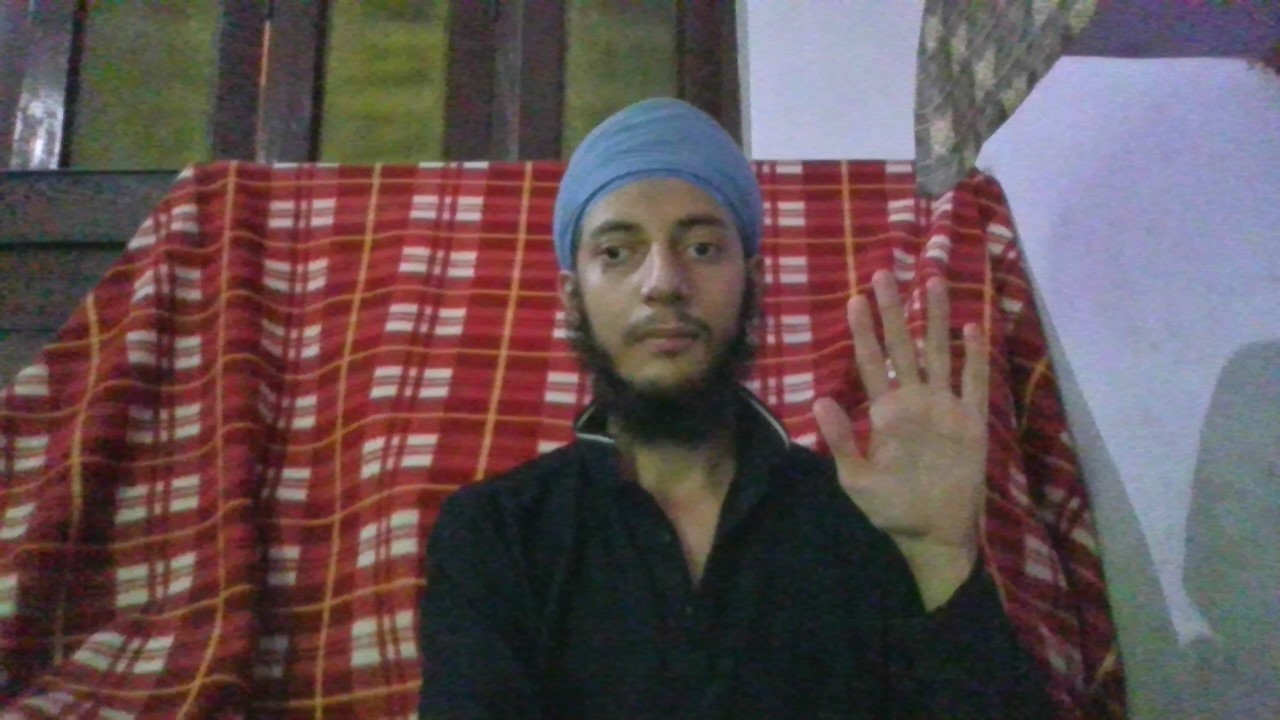Hello: (810, 267, 991, 552)
